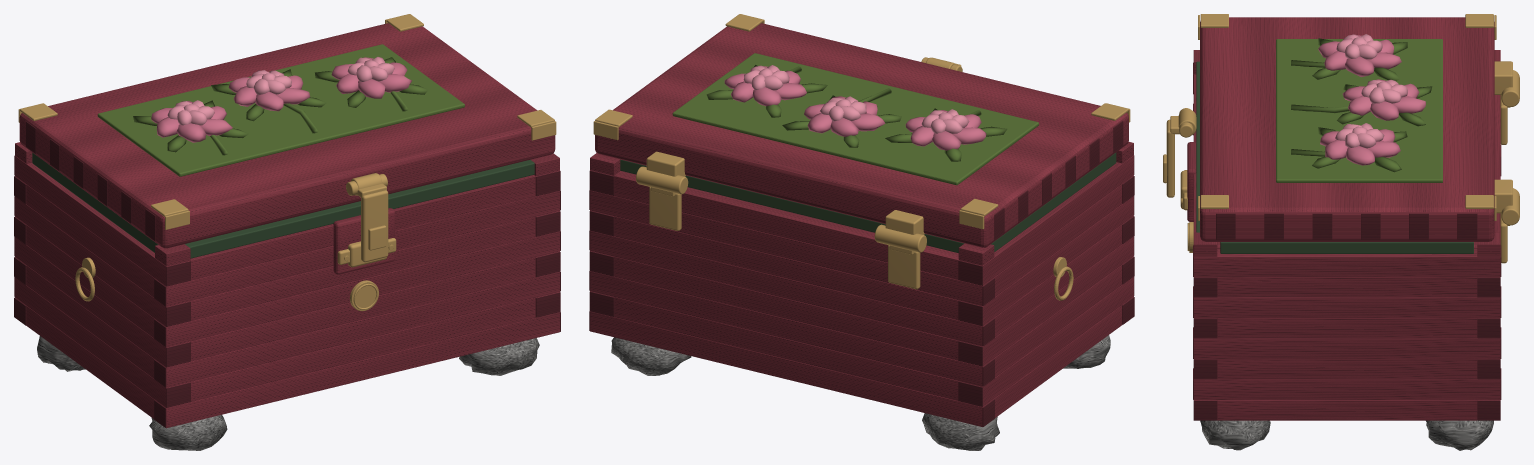
File: bulgaria.glb
3 views of the same model, side by side, from view 1: azimuth 30°, elevation 25°; view 2: azimuth 150°, elevation 25°; view 3: azimuth 270°, elevation 25° (orthographic).
Parts seen in each view (by area): view 1: Lid / polished slab, Rose carrier, Wine timber / front course 0, Wine timber / front course 2, Wine timber / front course 4, Wine timber / front course 1, Wine timber / front course 3, Wine timber / front course 6, Wine timber / front course 5, Wine timber / front course 7, Mineral seam / long, Wine timber / side course 7 (+15 smaller); view 2: Lid / polished slab, Rose carrier, Wine timber / rear course 2, Wine timber / rear course 4, Wine timber / rear course 0, Wine timber / rear course 7, Wine timber / rear course 5, Wine timber / rear course 1, Wine timber / rear course 3, Wine timber / rear course 6, Wine timber / side course 7, Wine timber / side course 1 (+19 smaller); view 3: Lid / polished slab, Rose carrier, Wine timber / side course 7.001, Wine timber / side course 5.001, Wine timber / side course 3.001, Wine timber / side course 1.001, Wine timber / side course 6.001, Wine timber / side course 0.001, Wine timber / side course 2.001, Wine timber / side course 4.001, Mineral seam / side.001, Granite foot.002 (+38 smaller).
Boxes of the visible parts, x1,y1,x2,y2 form: Lid / polished slab: (19, 23, 555, 248); Rose carrier: (97, 44, 464, 176); Wine timber / front course 0: (155, 312, 559, 428); Wine timber / front course 2: (155, 271, 559, 387); Wine timber / front course 4: (155, 231, 559, 347); Wine timber / front course 1: (190, 298, 535, 401); Wine timber / front course 3: (190, 257, 535, 361); Wine timber / front course 6: (155, 191, 559, 306); Wine timber / front course 5: (190, 217, 535, 320); Wine timber / front course 7: (190, 175, 535, 280); Mineral seam / long: (185, 159, 534, 258); Wine timber / side course 7: (14, 156, 190, 286); Lid / polished slab: (595, 23, 1128, 247); Rose carrier: (672, 53, 1038, 185); Wine timber / rear course 2: (590, 271, 994, 386); Wine timber / rear course 4: (590, 230, 994, 346); Wine timber / rear course 0: (590, 311, 993, 426); Wine timber / rear course 7: (614, 171, 958, 279); Wine timber / rear course 5: (614, 216, 958, 320); Wine timber / rear course 1: (614, 297, 958, 400); Wine timber / rear course 3: (614, 256, 958, 360); Wine timber / rear course 6: (590, 190, 993, 305); Wine timber / side course 7: (959, 155, 1133, 285); Wine timber / side course 1: (959, 277, 1133, 406); Lid / polished slab: (1200, 17, 1494, 241); Rose carrier: (1276, 39, 1442, 182); Wine timber / side course 7.001: (1194, 249, 1500, 277); Wine timber / side course 5.001: (1194, 297, 1500, 318); Wine timber / side course 3.001: (1194, 338, 1500, 359); Wine timber / side course 1.001: (1194, 379, 1500, 399); Wine timber / side course 6.001: (1217, 277, 1477, 297); Wine timber / side course 0.001: (1217, 400, 1477, 420); Wine timber / side course 2.001: (1217, 359, 1477, 379); Wine timber / side course 4.001: (1217, 318, 1477, 338); Mineral seam / side.001: (1220, 242, 1473, 253); Granite foot.002: (1200, 420, 1270, 450).
Size of the model in its own units: 3.79 by 2.56 by 2.88.
8 materials, 3 textured.
